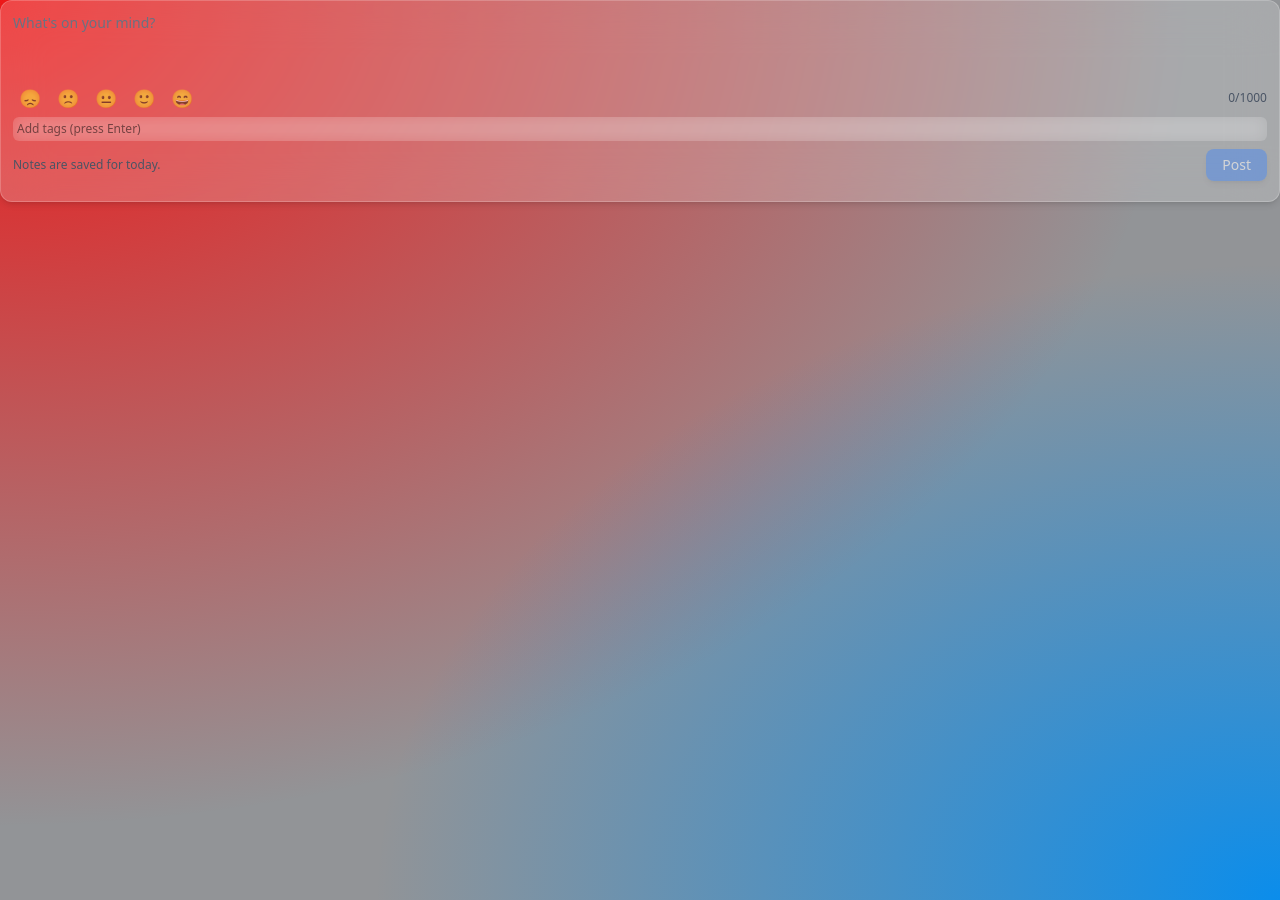
Test: JournalComposer › keeps the draft, shows the error and when saving fails
Type "keep me" into the text box named "Note".
click(640, 43); type("keep me")  # box [13,13,1267,73]
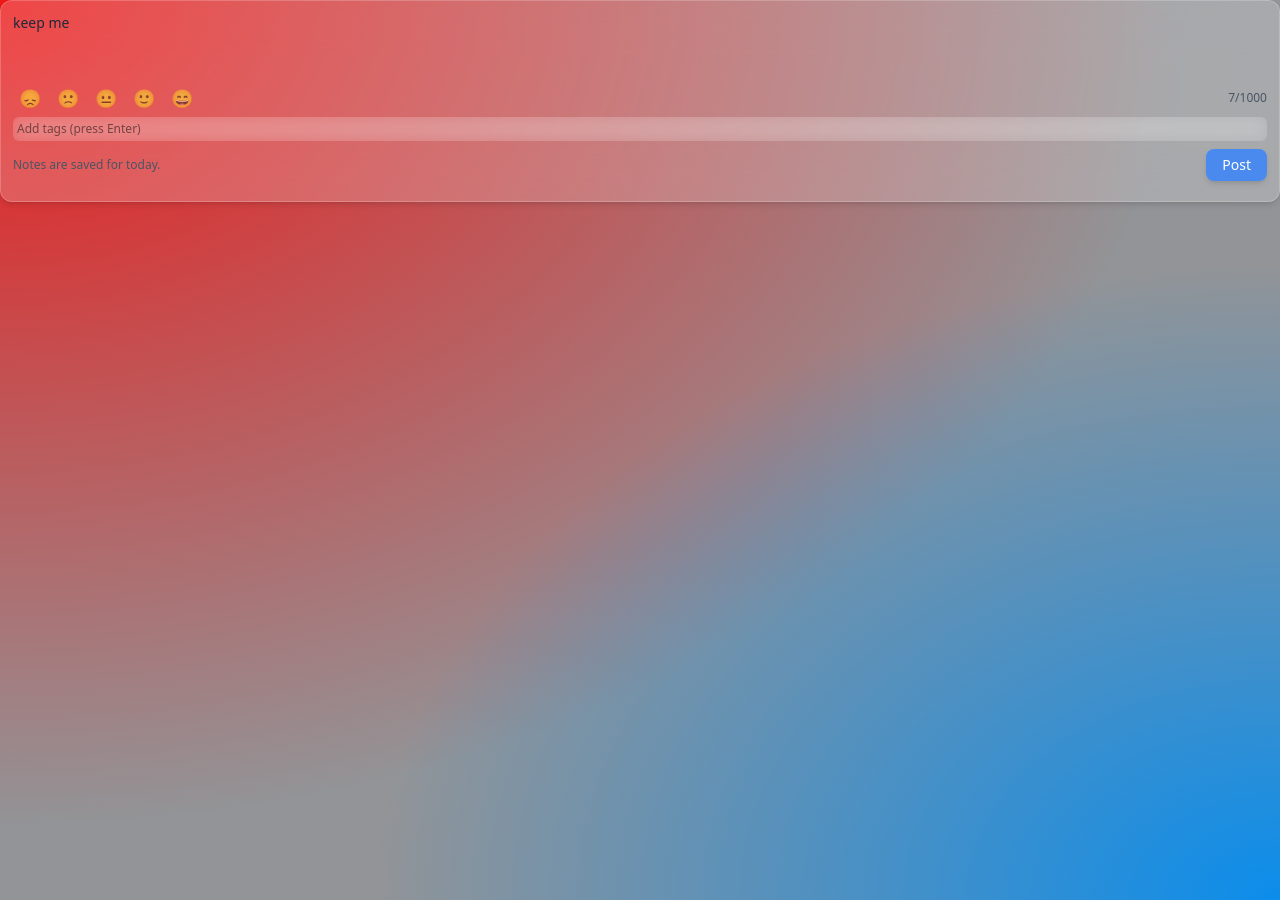
Click the button "Post".
click(1237, 165)  # box [1206,149,1267,181]
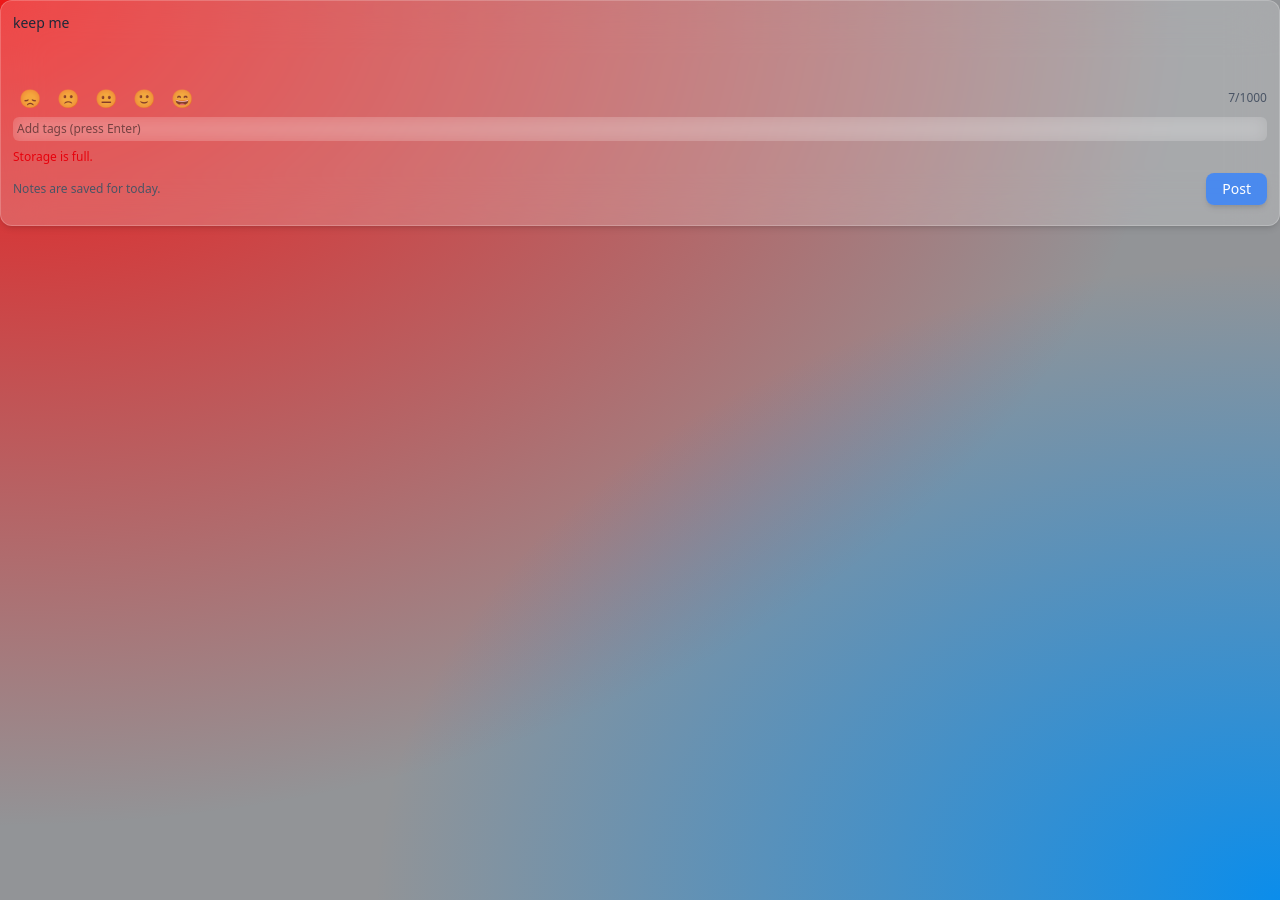
Expected: the button "Post" is enabled, [1206,173,1267,205]
Expected: the message reads "Storage is full.", [13,148,93,165]
